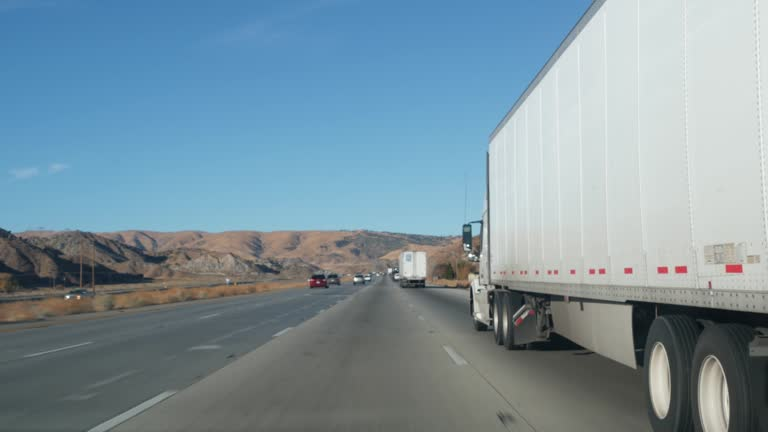Car: (308, 270, 327, 288), (352, 272, 365, 285)
Semi: (462, 0, 767, 431), (397, 250, 427, 287)
